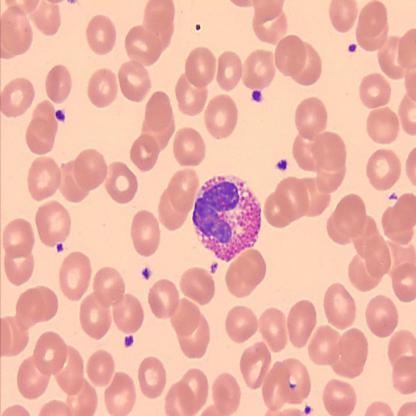Eosinophil: (190, 172, 261, 264)
